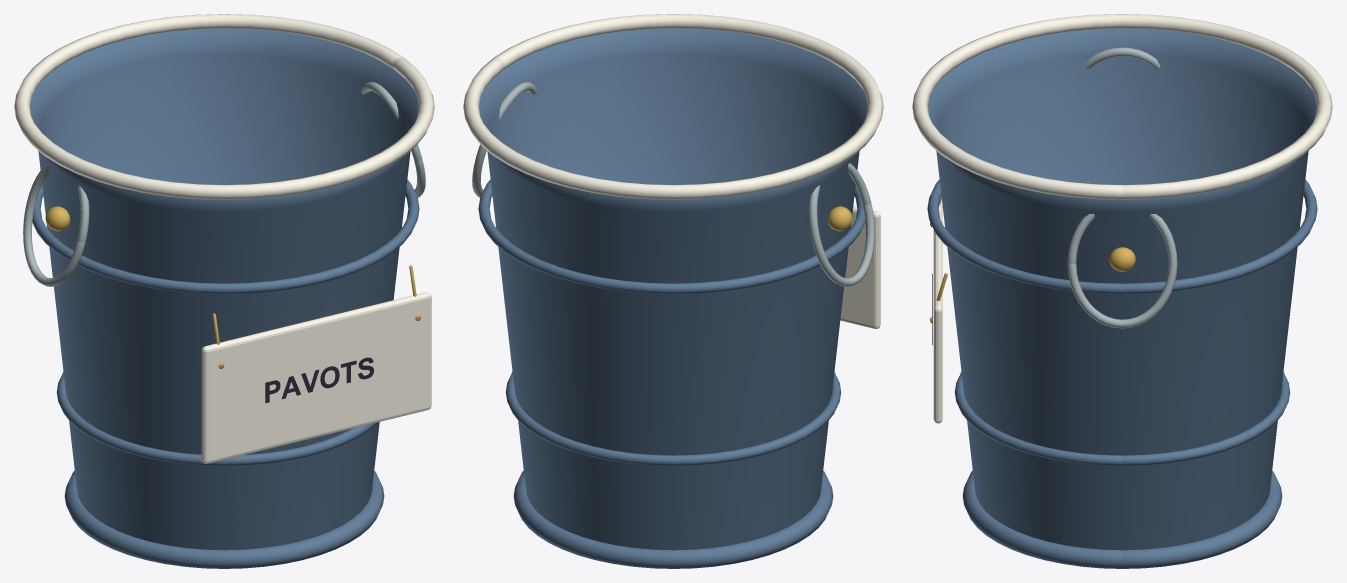
The model's file is bucket_poppies.glb.
3 renders of one model, left to right at view 1: azimuth 30°, elevation 25°; view 2: azimuth 150°, elevation 25°; view 3: azimuth 270°, elevation 25°, orthographic.
Parts seen in each view (by area): view 1: Open_metal_reservoir, Removable_price_plaque, Rolled_cream_lip, Reinforced_base, Pressed_bucket_rib.001, Pressed_bucket_rib, Side_ring_handle, Label_bold_species, Side_ring_handle.001; view 2: Open_metal_reservoir, Rolled_cream_lip, Reinforced_base, Pressed_bucket_rib.001, Pressed_bucket_rib, Removable_price_plaque, Side_ring_handle, Side_ring_handle.001; view 3: Open_metal_reservoir, Rolled_cream_lip, Reinforced_base, Pressed_bucket_rib.001, Pressed_bucket_rib, Side_ring_handle.001, Removable_price_plaque, Side_ring_handle, Handle_rivet.001.
Part boxes in pixels (x1,y1,x2,y2): Open_metal_reservoir: (30,28,418,550); Removable_price_plaque: (201,292,431,463); Rolled_cream_lip: (14,14,434,199); Reinforced_base: (64,471,384,568); Pressed_bucket_rib.001: (32,179,419,294); Pressed_bucket_rib: (56,372,377,465); Side_ring_handle: (23,163,89,286); Label_bold_species: (265,357,373,403); Side_ring_handle.001: (361,82,425,197); Open_metal_reservoir: (479,28,867,550); Rolled_cream_lip: (463,14,883,199); Reinforced_base: (513,471,833,568); Pressed_bucket_rib.001: (478,179,865,294); Pressed_bucket_rib: (505,372,841,465); Removable_price_plaque: (840,205,880,328); Side_ring_handle: (808,163,874,286); Side_ring_handle.001: (472,82,536,197); Open_metal_reservoir: (928,28,1316,550); Rolled_cream_lip: (912,14,1332,199); Reinforced_base: (962,471,1282,568); Pressed_bucket_rib.001: (927,179,1317,294); Pressed_bucket_rib: (954,372,1290,465); Side_ring_handle.001: (1067,214,1177,328); Removable_price_plaque: (933,200,942,423); Side_ring_handle: (1084,47,1160,69); Handle_rivet.001: (1109,247,1135,271).
Bounding box in the file's own units: 0.3814 × 0.407 × 0.374.
